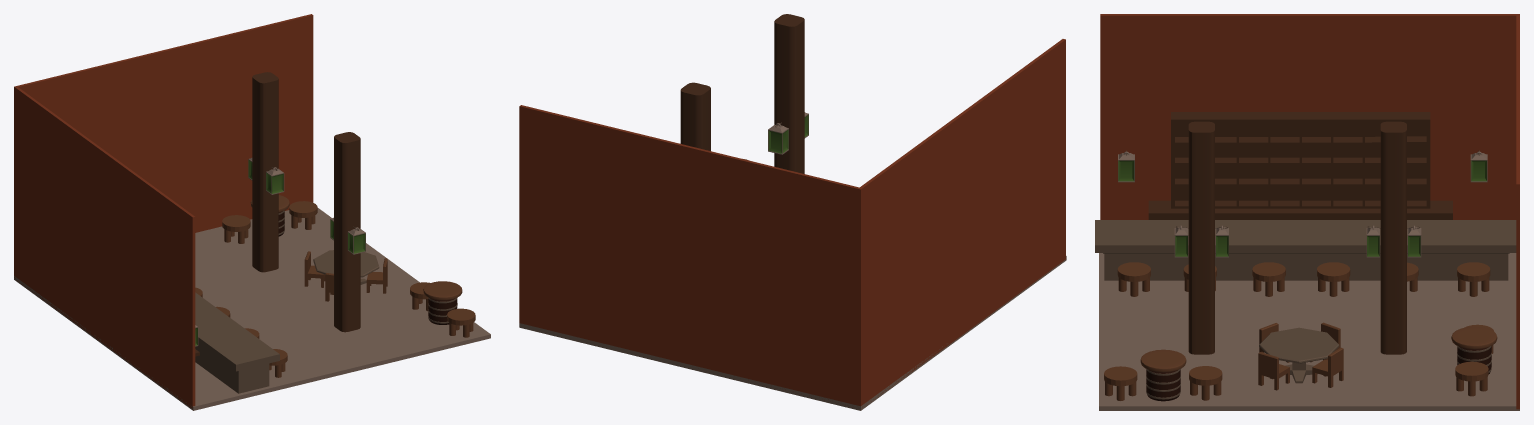
File: Medival_Tavern_Sketchfab.fbx
The picture shows the model from 3 angles, left to right: view 1: azimuth 30°, elevation 25°; view 2: azimuth 150°, elevation 25°; view 3: azimuth 270°, elevation 25°; orthographic projection. The views are drawn at different scales.
Visible parts, largest first — view 1: Wall1, Wall2, Floor, Pillars:Pillar1, Pillars:Pillar2, Bar_Counter1:Bar_Counter, Tall_Table2:Tall_Table, Lantern_Body (×2), Tavern_Big_Table:Table, Stool10, Stool7, Stool8; view 2: Wall2, Wall1, Pillars:Pillar2, Floor, Pillars:Pillar1, Lantern_Body; view 3: Wall1, Floor, Liquor_Shelf1:Liquor_Shelf, Bar_Counter1:Bar_Counter, Pillars:Pillar2, Pillars:Pillar1, Tavern_Big_Table:Table, Lantern_Body (×5), Tall_Table2:Tall_Table, Wall2, Tall_Table, Stool9 (+9 smaller).
Boxes of the visible parts, x1,y1,x2,y2 form: Wall1: (14,86,195,408); Wall2: (14,14,313,278); Floor: (14,208,490,410); Pillars:Pillar1: (252,72,278,272); Pillars:Pillar2: (334,132,360,332); Bar_Counter1:Bar_Counter: (195,292,279,393); Tall_Table2:Tall_Table: (423,281,462,324); Lantern_Body (×2): (266,168,365,254); Tavern_Big_Table:Table: (313,250,379,284); Stool10: (447,308,475,337); Stool7: (222,215,250,243); Stool8: (289,201,317,229); Wall2: (519,105,862,407); Wall1: (857,39,1065,406); Pillars:Pillar2: (774,14,804,173); Floor: (519,256,1066,410); Pillars:Pillar1: (680,82,710,150); Lantern_Body: (768,124,788,154); Wall1: (1100,14,1519,219); Floor: (1099,253,1519,410); Liquor_Shelf1:Liquor_Shelf: (1148,112,1452,219); Bar_Counter1:Bar_Counter: (1095,220,1516,280); Pillars:Pillar2: (1188,121,1214,354); Pillars:Pillar1: (1380,121,1406,354); Tavern_Big_Table:Table: (1259,327,1339,383); Lantern_Body (×5): (1174,153,1487,257); Tall_Table2:Tall_Table: (1140,349,1186,401); Wall2: (1516,15,1519,409); Tall_Table: (1451,326,1497,373); Stool9: (1189,366,1222,400).
Size of the model in its own units: 19.33 by 11.98 by 20.37.
Materials: 1 (1 with a texture image).
